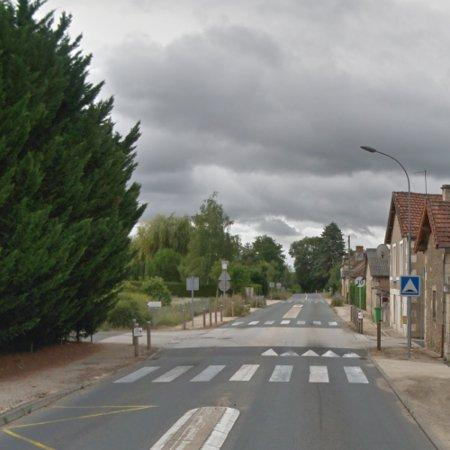crosswalks: (109, 364, 372, 385)
